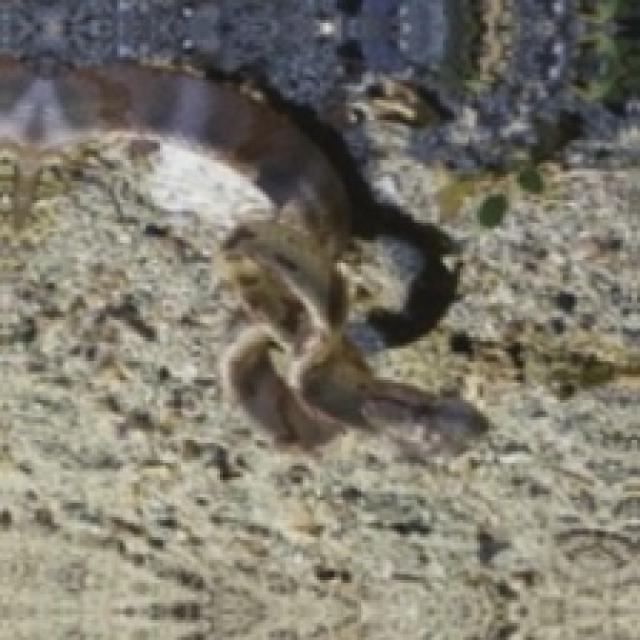dog-toothed cat snake: (0, 60, 486, 457)
